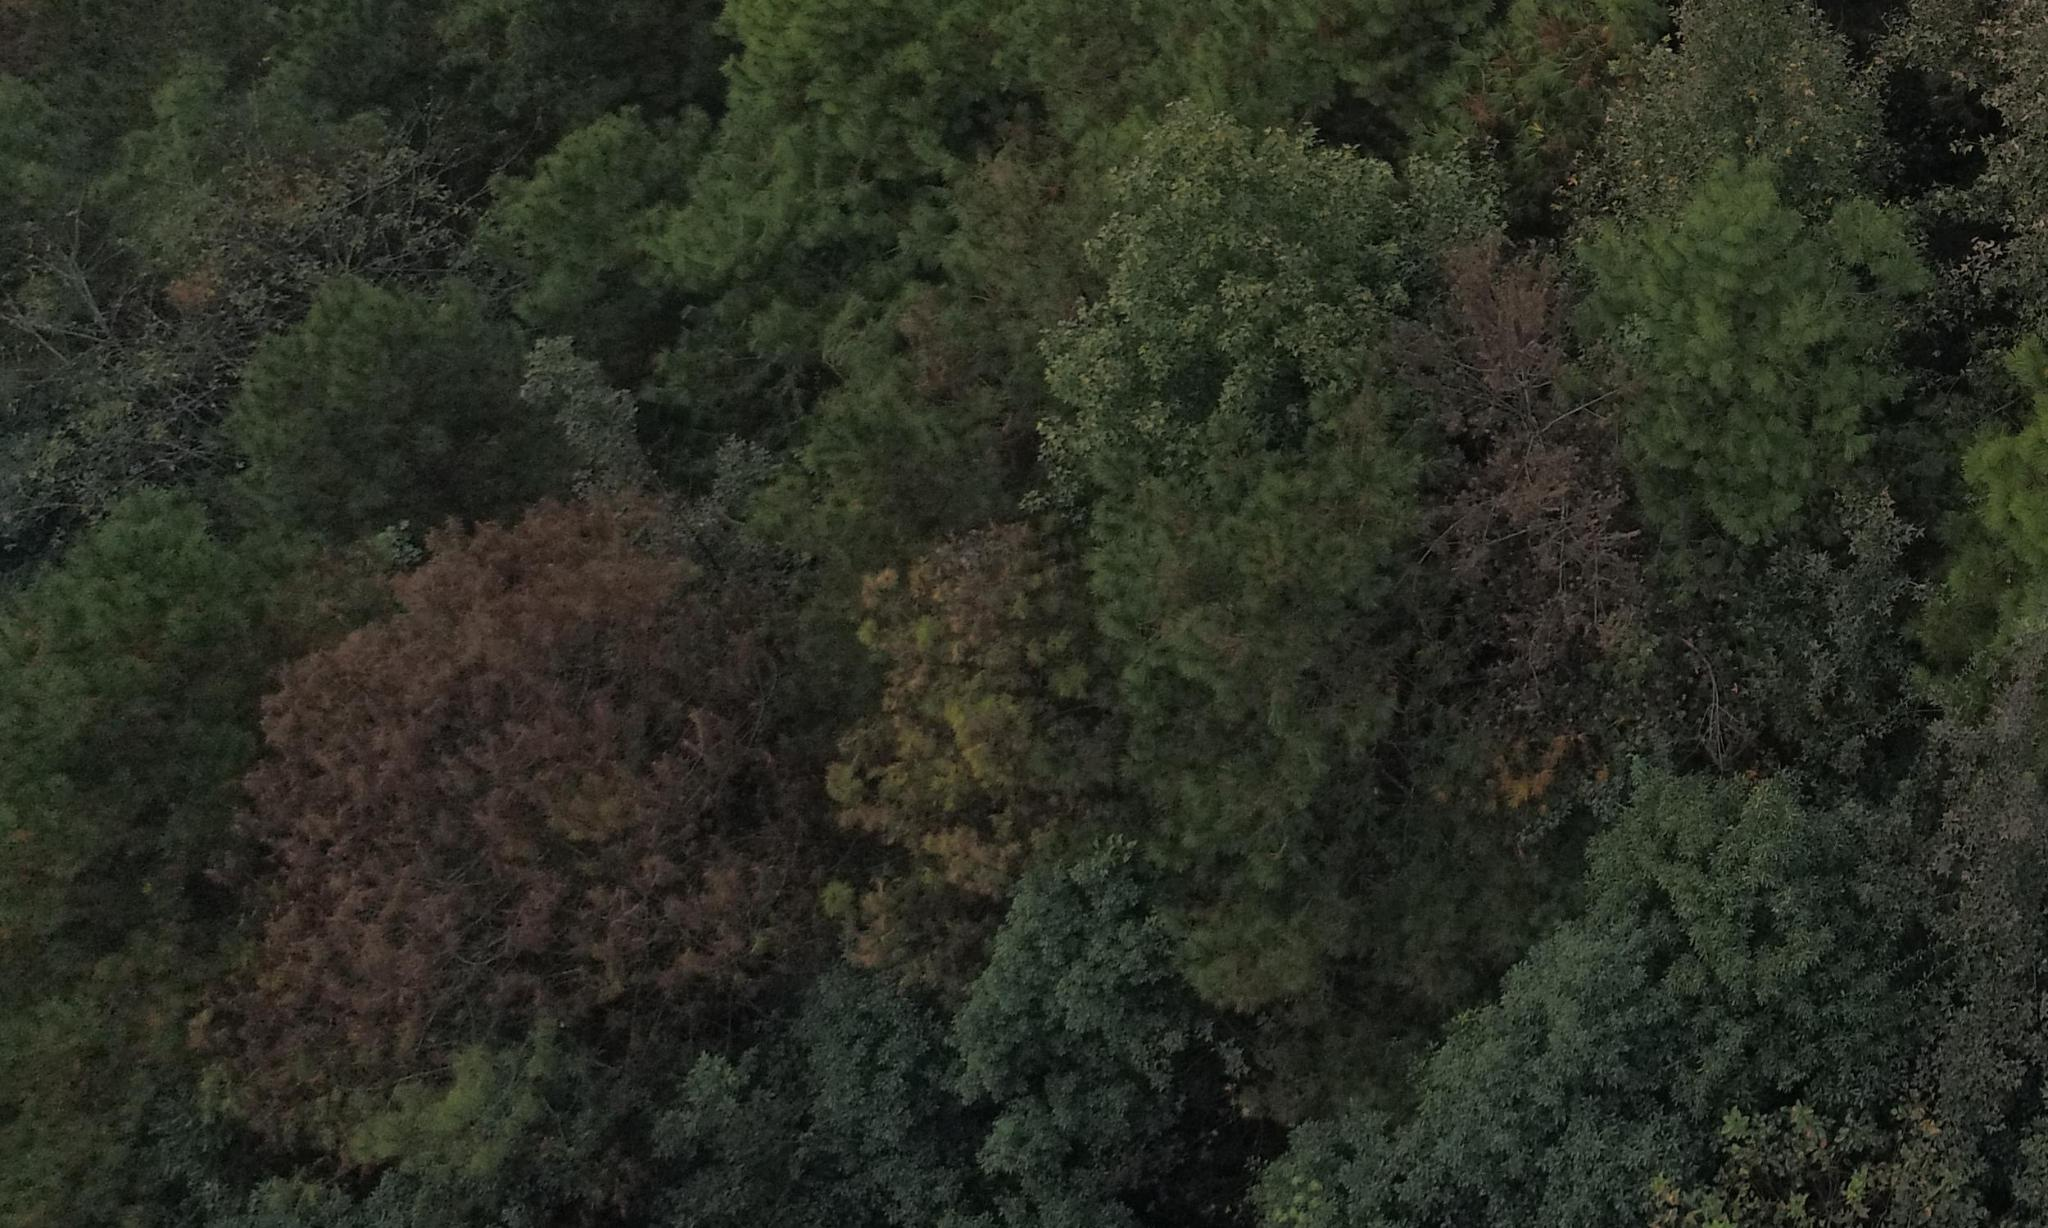heavy: (243, 507, 785, 1080)
light: (836, 525, 1086, 947)
